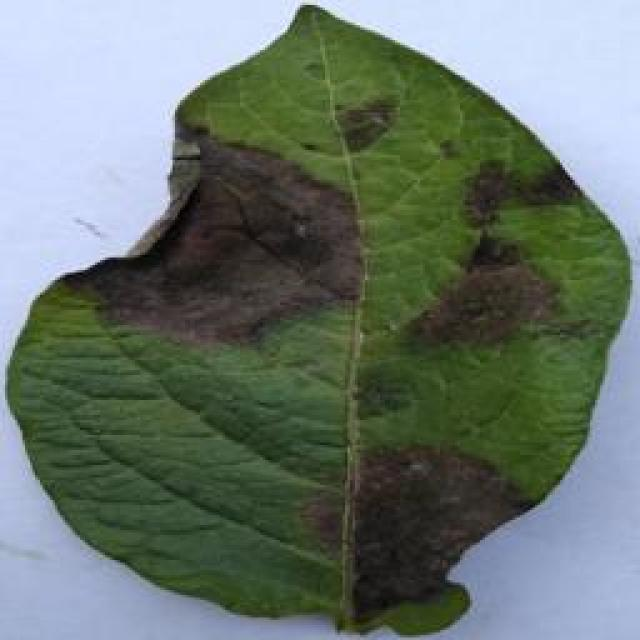Potato_Late_Blight: (0, 15, 628, 640)
